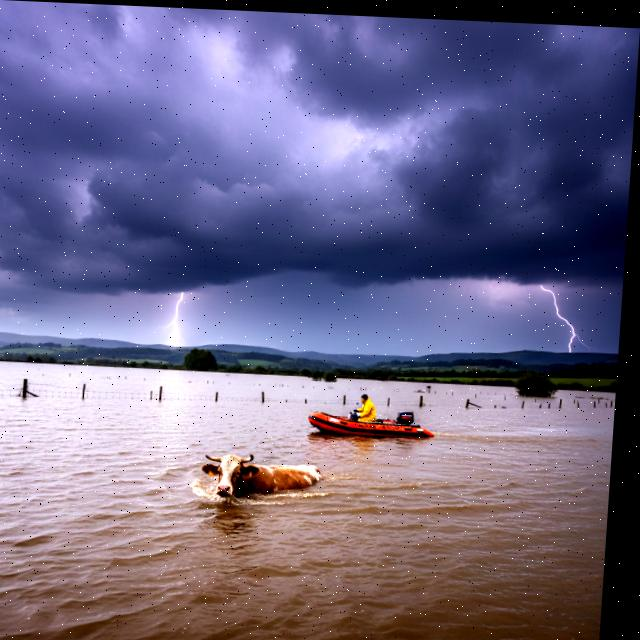civilian: (348, 390, 381, 432)
cow: (187, 443, 339, 512)
